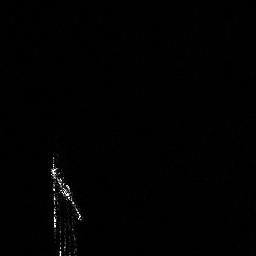ship: (46, 152, 88, 256)
